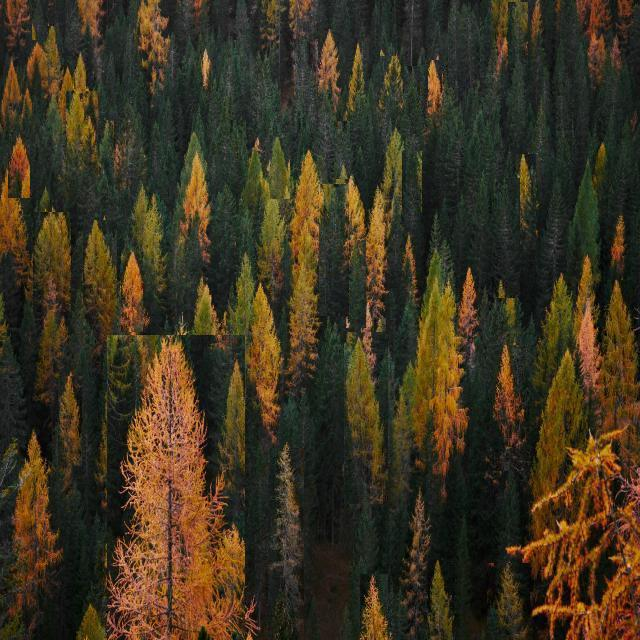tree: (107, 335, 245, 640), (317, 313, 351, 543), (344, 332, 388, 504), (268, 448, 304, 640), (283, 230, 319, 390), (247, 277, 281, 427), (490, 345, 530, 471), (400, 486, 432, 640), (83, 220, 117, 344), (319, 184, 349, 316), (33, 212, 71, 312), (604, 280, 634, 396), (0, 164, 29, 284), (492, 178, 520, 298), (487, 563, 530, 640), (364, 189, 388, 325), (548, 351, 580, 449), (294, 394, 318, 516), (448, 0, 480, 88), (497, 461, 523, 567), (348, 52, 374, 156), (572, 162, 600, 258), (66, 91, 98, 175), (453, 508, 473, 640), (469, 172, 491, 292), (210, 176, 238, 268), (1, 324, 23, 440), (186, 149, 210, 247), (264, 0, 292, 84), (294, 39, 318, 133), (152, 100, 178, 184), (58, 376, 82, 466), (260, 190, 284, 278), (528, 98, 552, 185), (395, 235, 417, 327), (505, 56, 527, 148), (296, 150, 320, 234), (382, 128, 406, 212), (240, 146, 260, 246), (547, 276, 573, 352), (317, 32, 338, 124), (428, 560, 452, 640), (516, 154, 536, 250), (38, 306, 62, 386), (360, 574, 388, 640), (121, 252, 143, 332), (346, 240, 366, 328), (549, 176, 569, 262), (381, 53, 404, 127), (458, 269, 480, 343), (452, 193, 470, 283), (46, 99, 66, 179), (556, 79, 572, 177), (402, 151, 422, 227), (317, 92, 335, 176), (8, 132, 30, 198), (1, 51, 23, 117), (72, 603, 108, 640), (194, 284, 214, 350), (579, 254, 597, 326), (270, 137, 290, 199), (98, 120, 114, 196), (508, 2, 528, 62), (576, 74, 592, 146), (398, 304, 417, 364), (610, 213, 626, 283), (404, 66, 420, 134), (230, 120, 246, 184), (334, 121, 350, 179), (428, 60, 442, 126), (380, 0, 396, 56), (594, 141, 610, 195), (552, 41, 566, 101), (404, 0, 424, 38), (32, 0, 48, 40), (43, 26, 57, 66), (74, 52, 86, 94), (374, 318, 386, 354), (38, 186, 50, 214)
